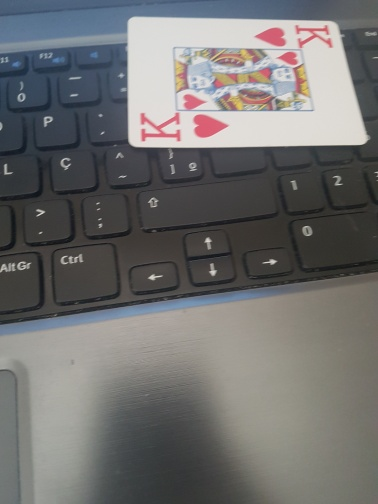king: (127, 14, 370, 152)
